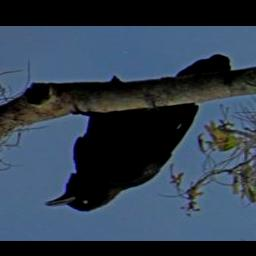Crow: (46, 54, 232, 212)
